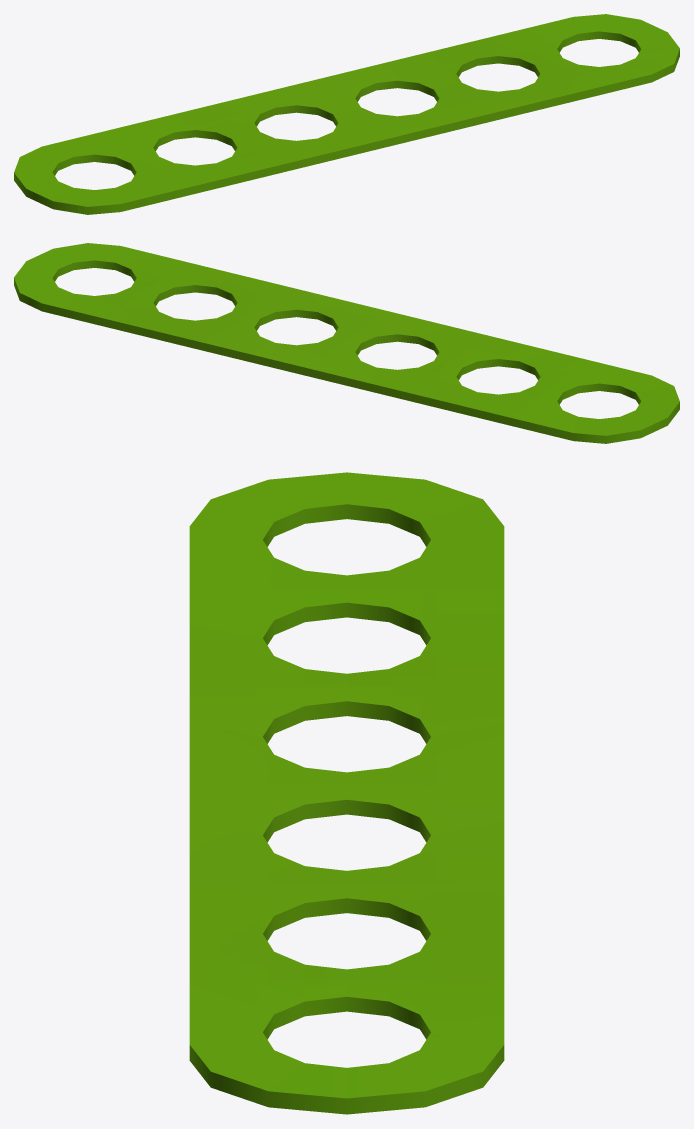
The model's file is SixLongGreen.fbx.
3 renders of one model, top to bottom at view 1: azimuth 30°, elevation 25°; view 2: azimuth 150°, elevation 25°; view 3: azimuth 270°, elevation 25°, orthographic. The views are drawn at different scales.
Parts seen in each view (by area): view 1: Blue6; view 2: Blue6; view 3: Blue6.
Boxes of the visible parts, x1,y1,x2,y2 form: Blue6: (14, 14, 679, 214); Blue6: (14, 243, 679, 443); Blue6: (189, 472, 504, 1114).
Bounding box in the file's own units: 16.25 × 0.1942 × 3.45.
